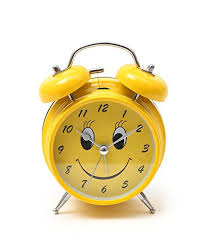alarm_clock: (39, 43, 169, 218)
